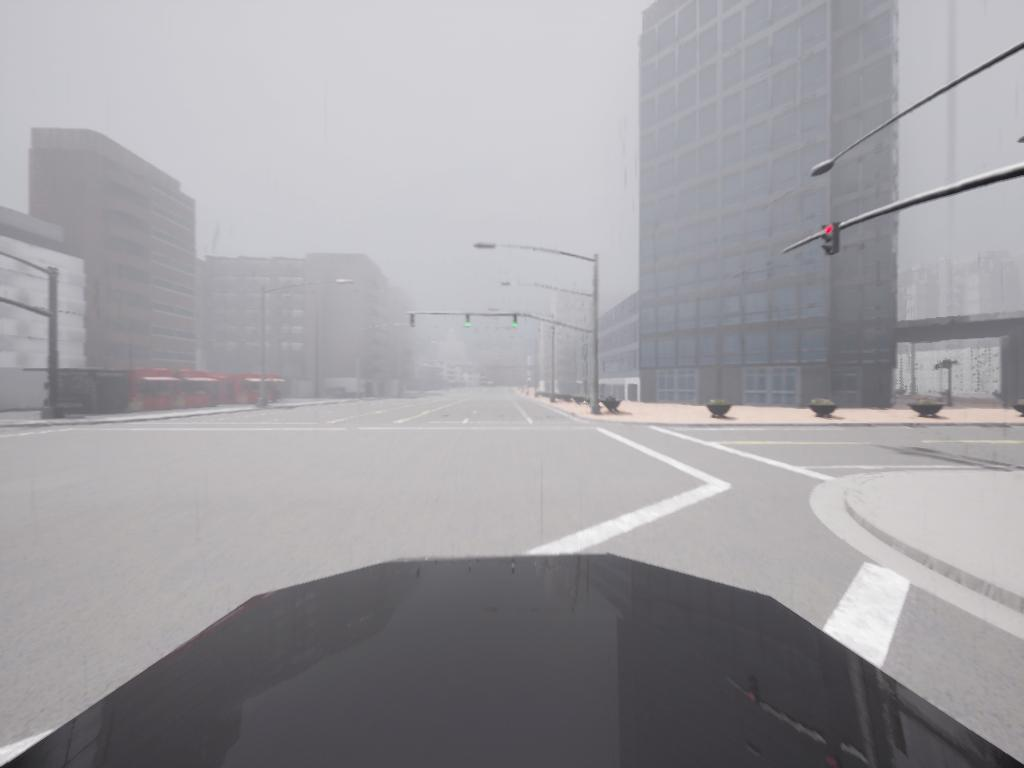traffic_light: (823, 224, 840, 255), (410, 315, 417, 328), (513, 315, 519, 329), (466, 316, 472, 329)
